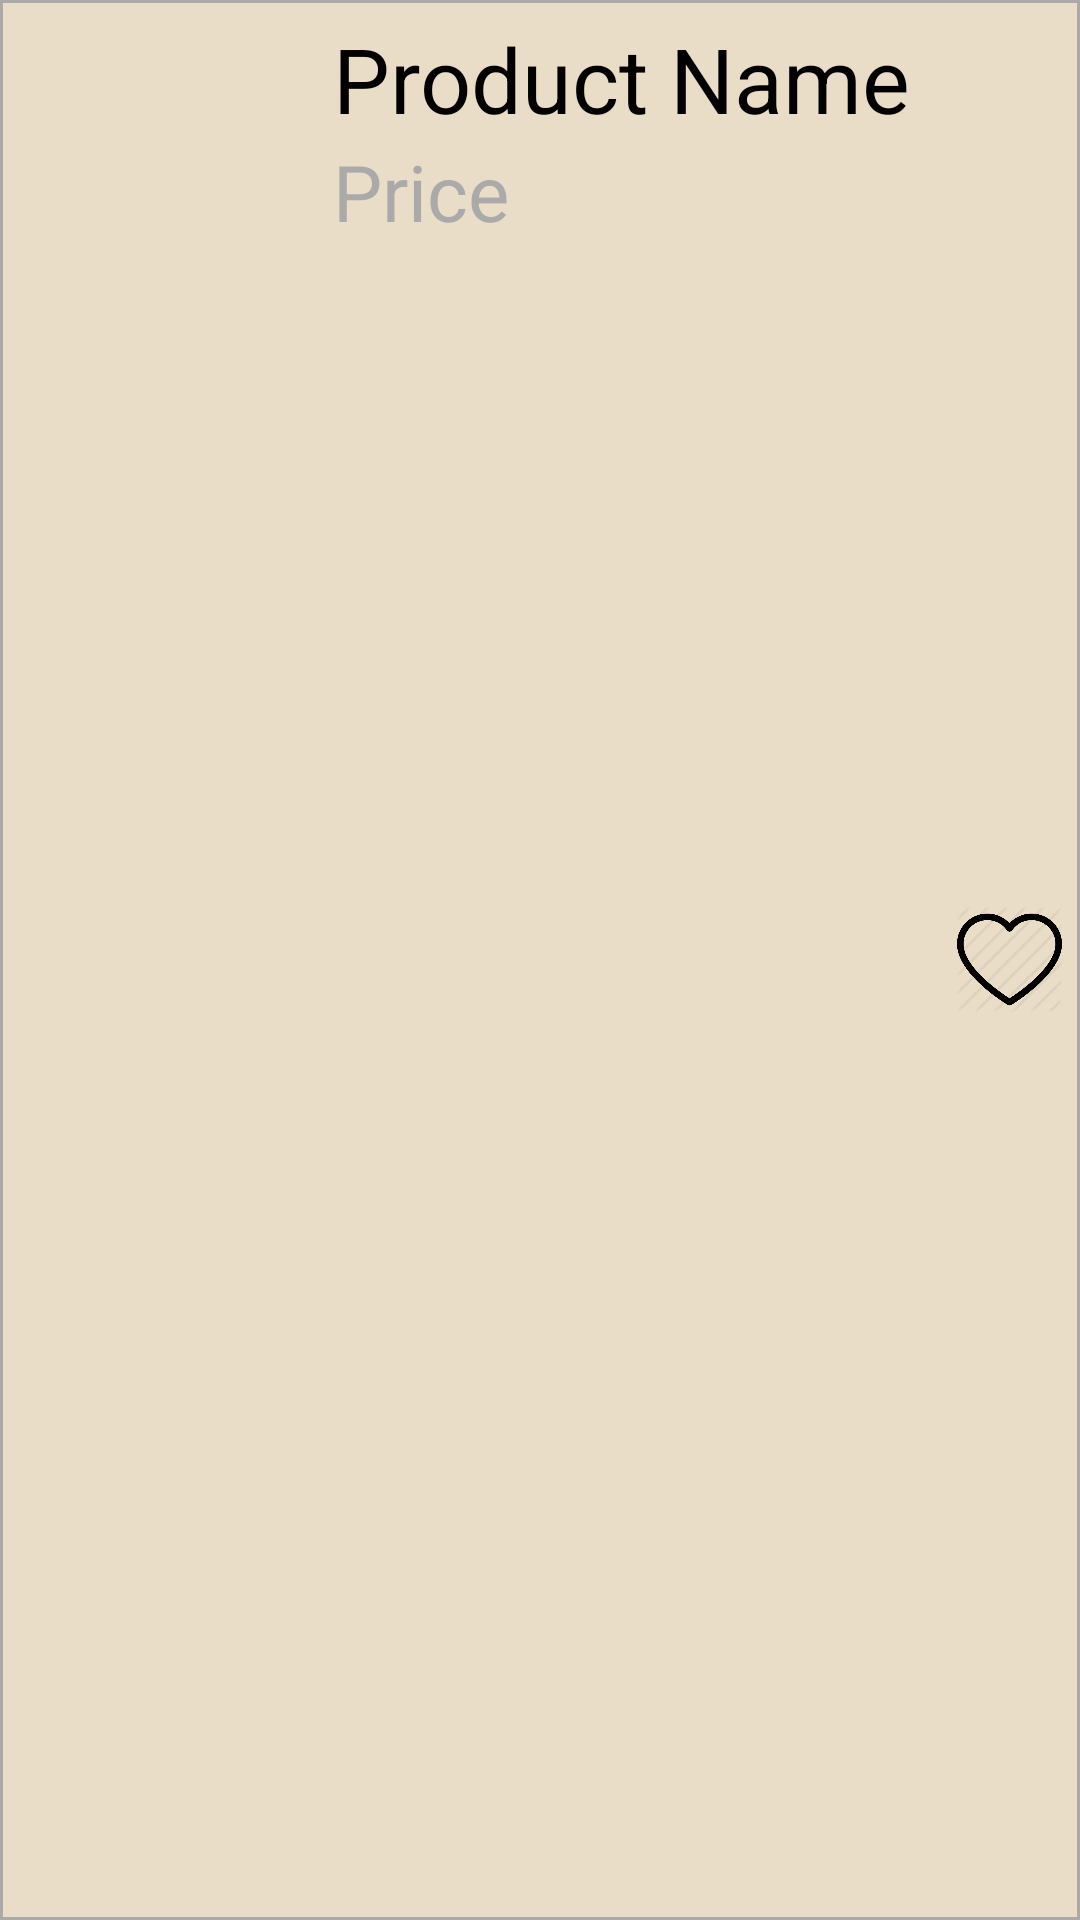

Where to tap for icons on this 1080w x 1920h app screen, as (x,y):
heart: (1009,959)
